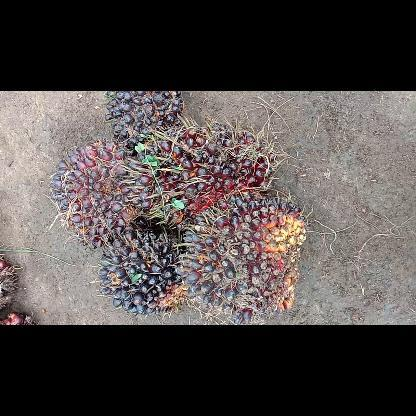TBS mentah: (176, 192, 309, 324), (123, 121, 281, 232), (47, 140, 150, 250), (94, 226, 193, 318), (102, 92, 186, 152)
